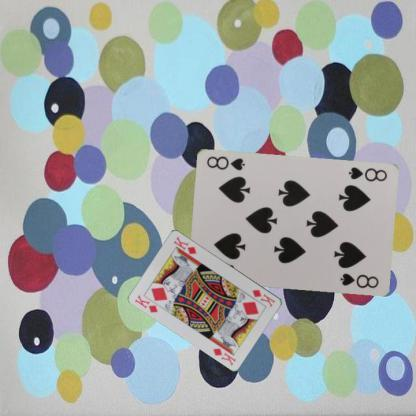8s: (346, 165, 388, 184)
Kd: (132, 292, 160, 314), (249, 286, 276, 308)
